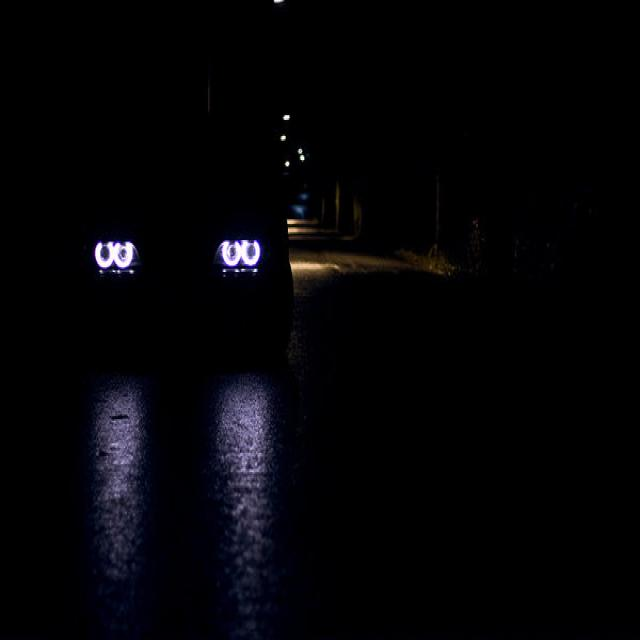Car: (45, 76, 299, 364)
